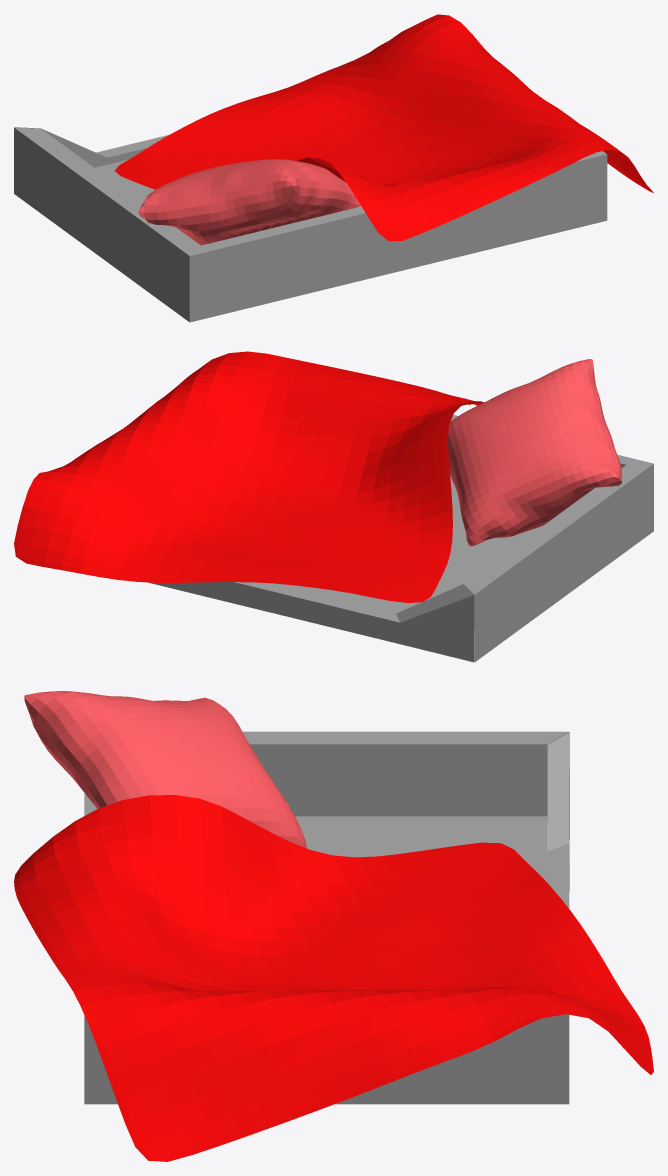
The model's file is bed.glb.
3 renders of one model, top to bottom at view 1: azimuth 30°, elevation 25°; view 2: azimuth 150°, elevation 25°; view 3: azimuth 270°, elevation 25°, orthographic. The views are drawn at different scales.
Visible parts, largest first — view 1: Blanket, Bed, Pillow, FrontFace; view 2: Blanket, Pillow, Bed, FrontFace; view 3: Blanket, Bed, Pillow, FrontFace.
Boxes of the visible parts, x1=… form: Blanket: x1=115, y1=14, x2=653, y2=241; Bed: x1=14, y1=127, x2=607, y2=322; Pillow: x1=138, y1=159, x2=360, y2=245; FrontFace: x1=15, y1=127, x2=168, y2=167; Blanket: x1=14, y1=351, x2=483, y2=602; Pillow: x1=447, y1=359, x2=621, y2=546; Bed: x1=272, y1=414, x2=653, y2=662; FrontFace: x1=149, y1=582, x2=474, y2=662; Blanket: x1=14, y1=795, x2=653, y2=1161; Bed: x1=84, y1=731, x2=569, y2=1104; Pillow: x1=24, y1=691, x2=306, y2=848; FrontFace: x1=547, y1=732, x2=569, y2=908.
Bounding box in the file's own units: 2.38 × 0.6605 × 1.93.
